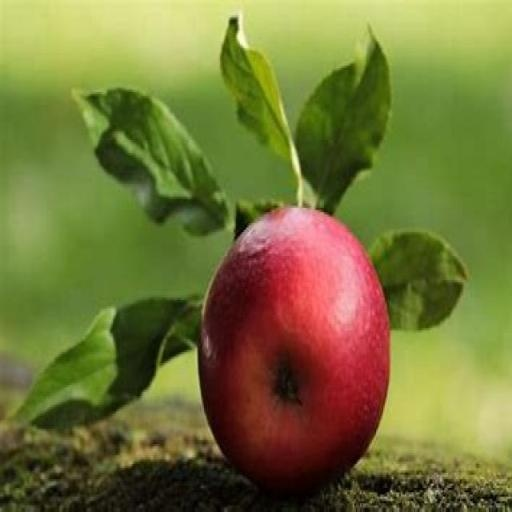fruit: (199, 208, 389, 491)
